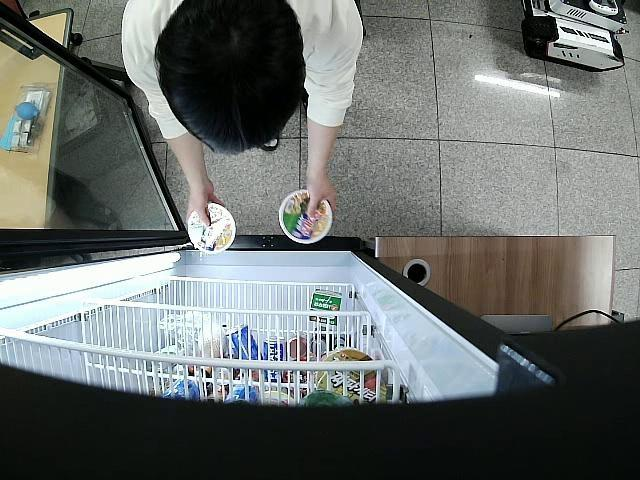09_yukGaeJang: (279, 190, 334, 246), (188, 204, 238, 255)
